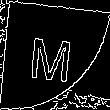M_N: (31, 27, 79, 83)
